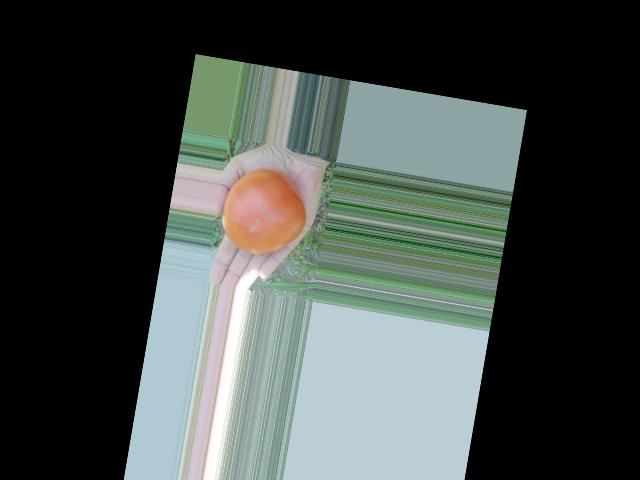tomato: (216, 163, 313, 261)
